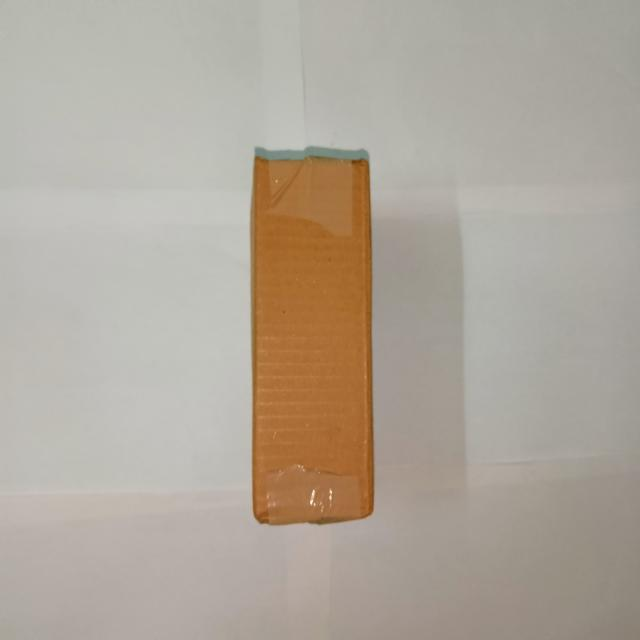box: (250, 152, 377, 530)
